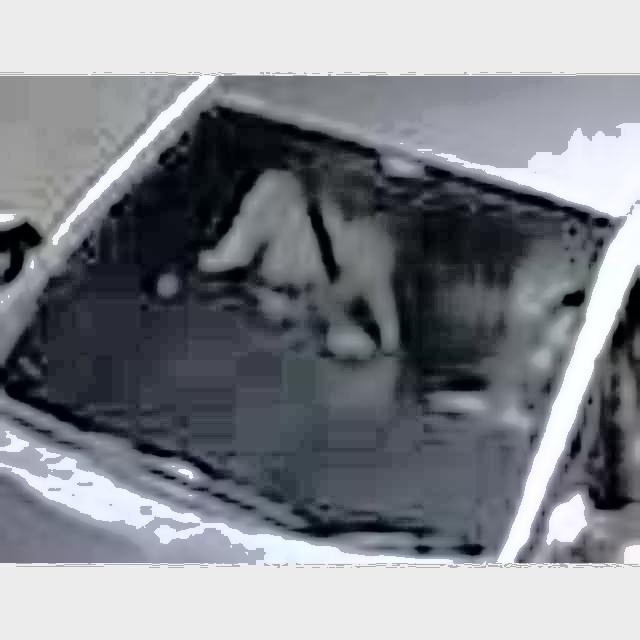pakai: (206, 158, 423, 387)
